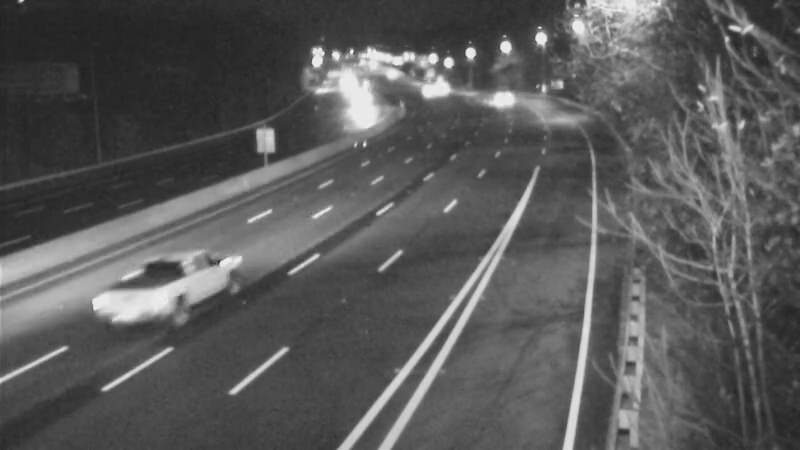vehicle: (106, 257, 186, 337), (406, 68, 456, 118), (481, 76, 531, 126)
